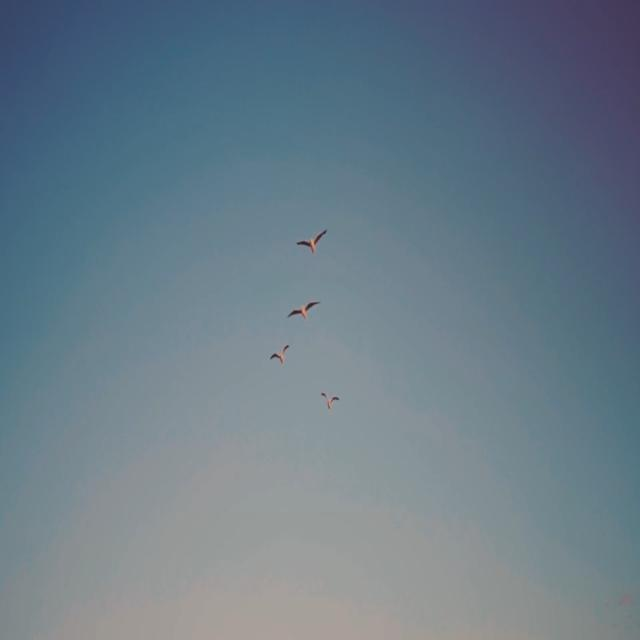bird: (295, 226, 328, 255), (286, 298, 323, 322), (269, 343, 290, 365), (319, 390, 340, 412)
